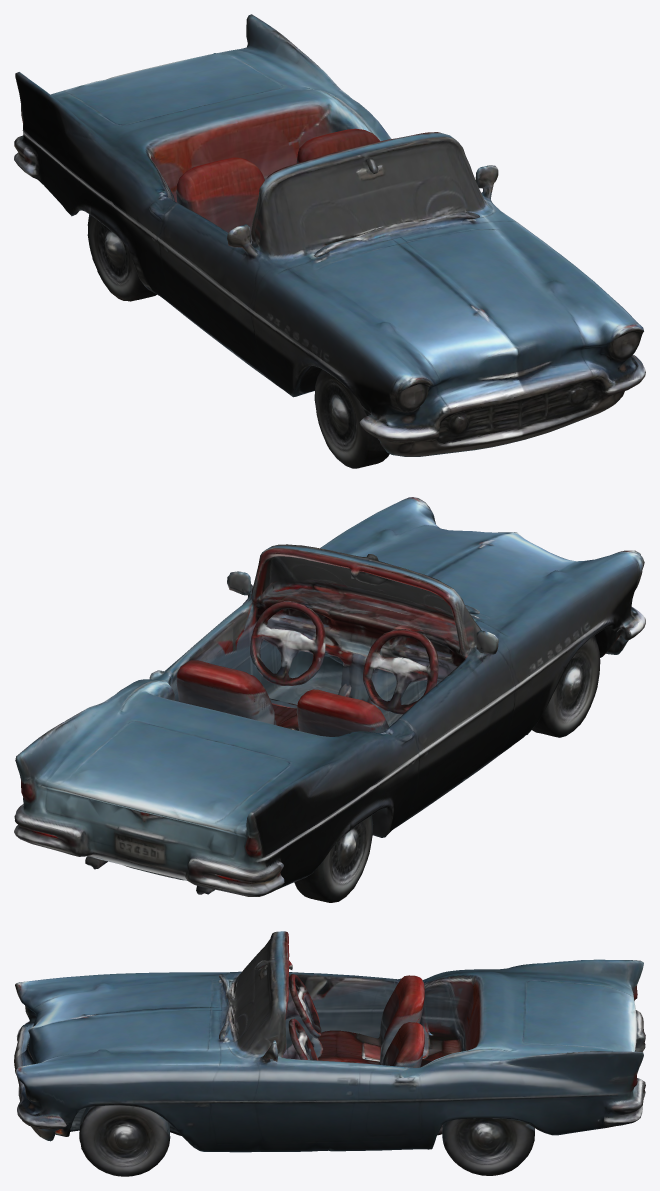
Rendered from i_want_a_3d_model_of__1108190158_refine.fbx.
3 views of the same model, one above another, from view 1: azimuth 30°, elevation 25°; view 2: azimuth 150°, elevation 25°; view 3: azimuth 270°, elevation 25° (orthographic). The views are drawn at different scales.
Parts seen in each view (by area): view 1: Mesh_0; view 2: Mesh_0; view 3: Mesh_0.
Boxes of the visible parts, bbox=[...] form: Mesh_0: bbox=[14, 14, 645, 468]; Mesh_0: bbox=[14, 497, 645, 902]; Mesh_0: bbox=[14, 931, 645, 1176].
Size of the model in its own units: 79.98 by 60.41 by 200.
1 material, 1 textured.
